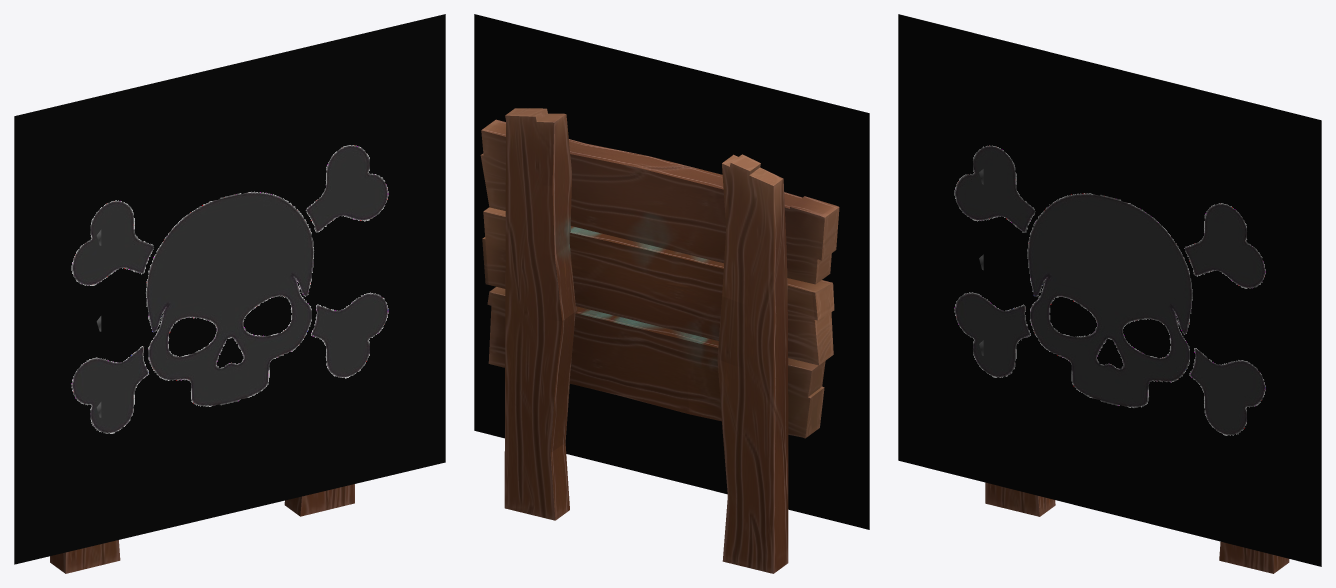
Rendered from danger_sign.fbx.
The picture shows the model from 3 angles, left to right: view 1: azimuth 30°, elevation 25°; view 2: azimuth 150°, elevation 25°; view 3: azimuth 330°, elevation 25°; orthographic projection. The views are drawn at different scales.
Parts seen in each view (by area): view 1: skull, Pillar_lp; view 2: skull, Pillar_lp, Signup_lp, Signmid_lp, Signdown_lp; view 3: skull, Pillar_lp.
Boxes of the visible parts, bbox=[...] form: skull: bbox=[14, 14, 445, 564]; Pillar_lp: bbox=[50, 484, 354, 573]; skull: bbox=[474, 14, 869, 529]; Pillar_lp: bbox=[504, 108, 788, 573]; Signup_lp: bbox=[480, 119, 839, 284]; Signmid_lp: bbox=[482, 207, 834, 365]; Signdown_lp: bbox=[487, 287, 825, 438]; skull: bbox=[898, 14, 1321, 566]; Pillar_lp: bbox=[985, 482, 1289, 573].
Bounding box in the file's own units: 157 × 171 × 24.03.
